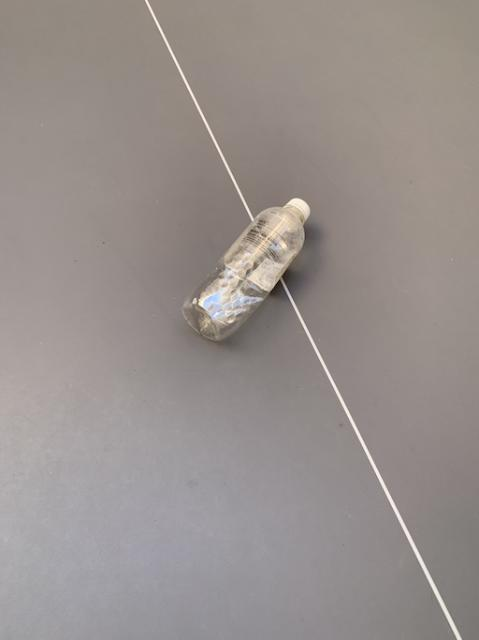plastic: (182, 197, 309, 339)
